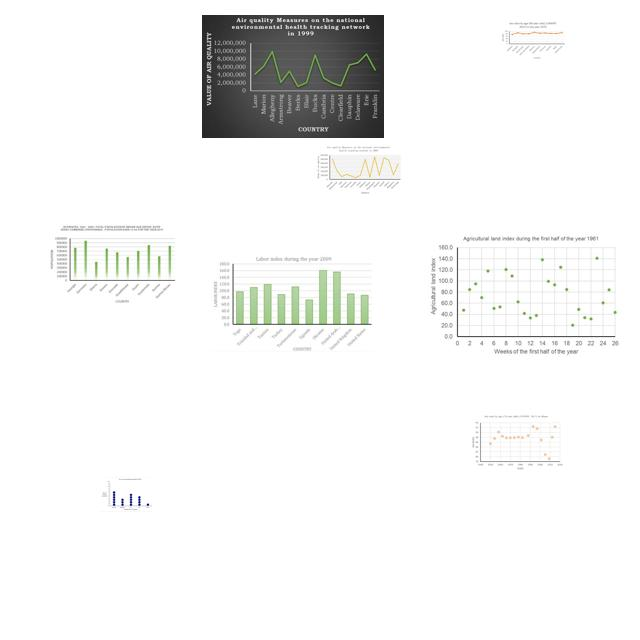Graph: (426, 234, 622, 357), (202, 15, 384, 138), (212, 255, 374, 352), (46, 224, 177, 303), (469, 414, 564, 470), (315, 144, 402, 195), (500, 21, 566, 60), (100, 477, 153, 512)
